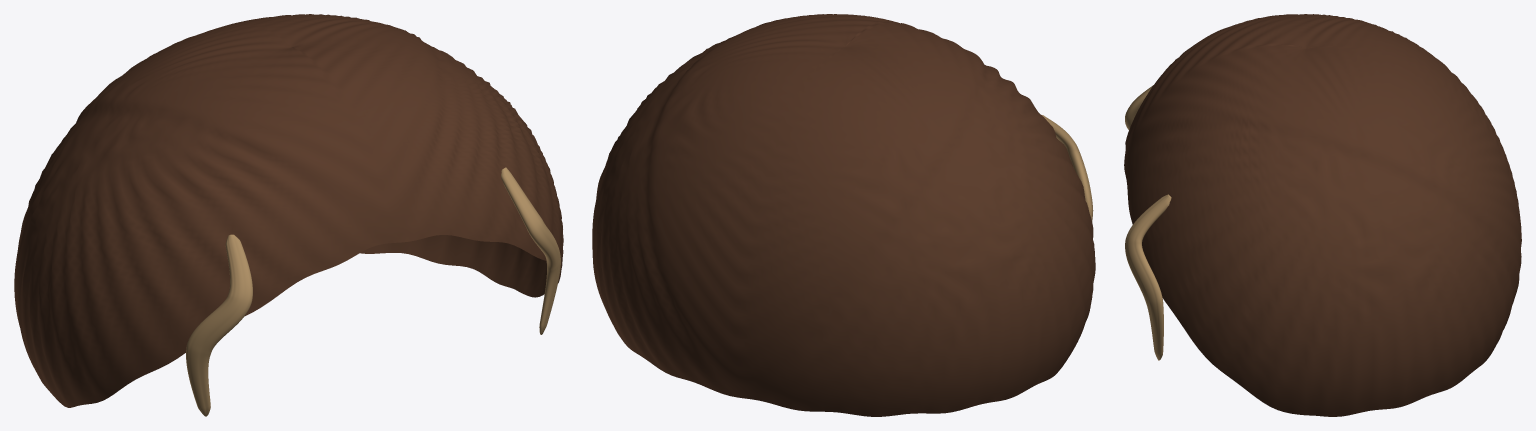
The model's file is Highlights-7c21c5272c22251-hair.glb.
3 views of the same model, side by side, from view 1: azimuth 30°, elevation 25°; view 2: azimuth 150°, elevation 25°; view 3: azimuth 270°, elevation 25° (orthographic). The views are drawn at different scales.
Visible parts, largest first — view 1: 226 hair / Hair / chestnut226.001; view 2: 226 hair / Hair / chestnut226.001; view 3: 226 hair / Hair / chestnut226.001.
Boxes of the visible parts, x1,y1,x2,y2 form: 226 hair / Hair / chestnut226.001: (14, 14, 563, 416); 226 hair / Hair / chestnut226.001: (592, 14, 1095, 416); 226 hair / Hair / chestnut226.001: (1124, 14, 1521, 416).
Size of the model in its own units: 0.9988 by 0.599 by 0.7845.
